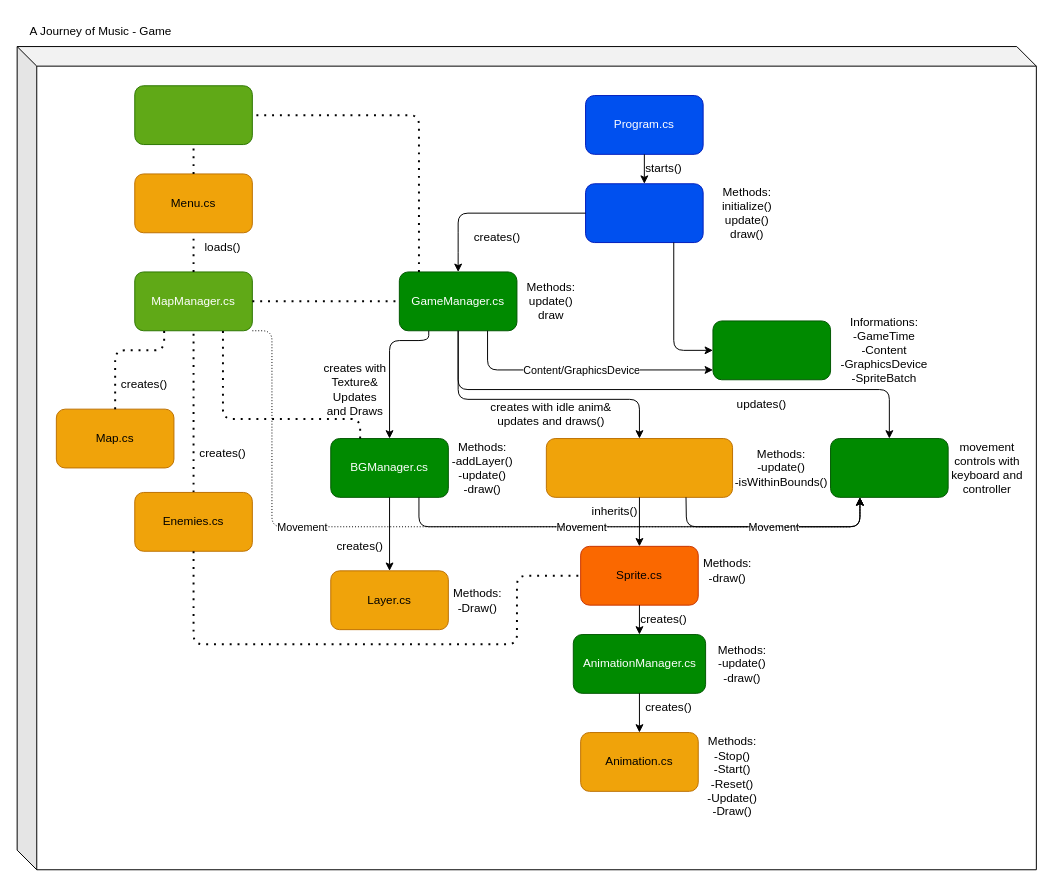
This 1054x887 diagram has some shape labels left out. The centre of each missing label's shape, as x and y in pixels:
Game1.cs: pixel 644 213
Globals: pixel 771 350
InputManager: pixel 889 467
MenuManager.cs: pixel 193 115
PlayerCharacter(Movement).cs: pixel 639 467
